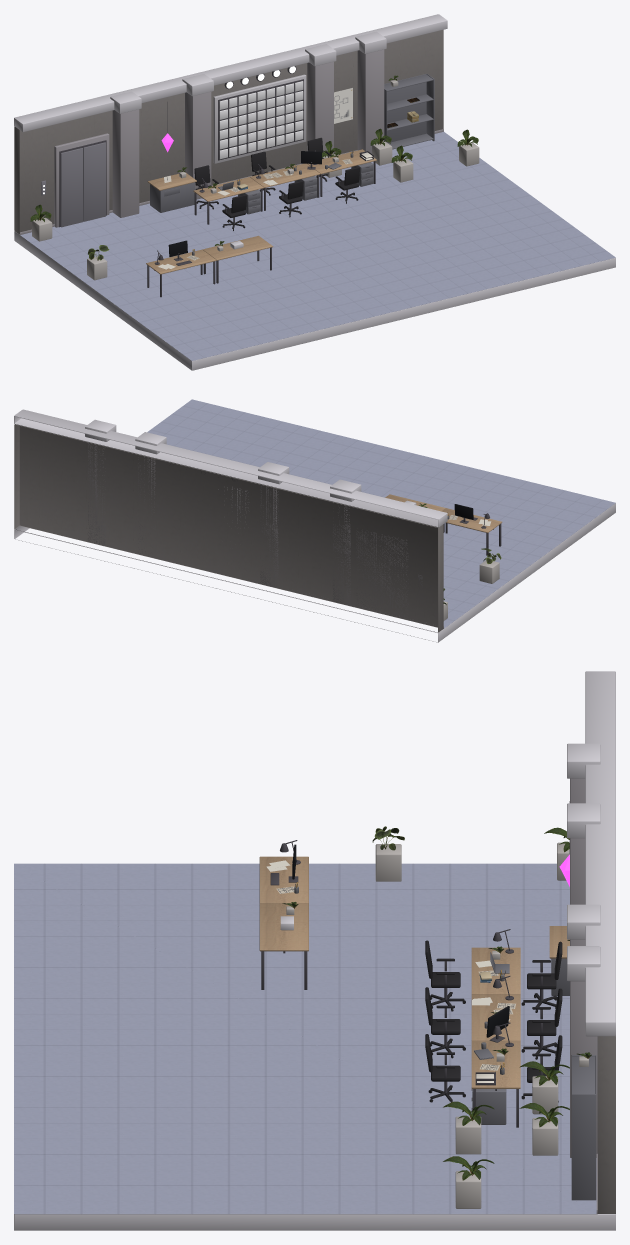
File: workbench.glb
3 renders of one model, top to bottom at view 1: azimuth 30°, elevation 25°; view 2: azimuth 150°, elevation 25°; view 3: azimuth 270°, elevation 25°, orthographic. The views are drawn at different scales.
Visible parts, largest first — view 1: floor, wall_back, floor_slab, wall_cap, pilaster_0, pilaster_3, pilaster_1, pilaster_2, plan_back, lift_door_0, lift_door_1, shelf_back (+13 smaller); view 2: wall_back, floor, wall_cap, floor_slab, lift_surround, pilaster_1, pilaster_0, corner_top, pilaster_3, planter_4, pilaster_cap_0, pilaster_cap_3 (+2 smaller); view 3: floor, floor_slab, wall_cap, wall_back, shelf_side_1, corner_b_top, corner_top, desk1_top, pilaster_3, desk3_top, desk2_top, pilaster_1 (+11 smaller).
Part boxes in pixels (x1,y1,x2,y2): floor: [20, 131, 615, 360]; wall_back: [14, 30, 443, 234]; floor_slab: [14, 231, 615, 370]; wall_cap: [14, 14, 447, 132]; pilaster_0: [112, 109, 139, 217]; pilaster_3: [357, 49, 384, 153]; pilaster_1: [185, 92, 211, 199]; pilaster_2: [307, 62, 333, 155]; plan_back: [218, 79, 303, 160]; lift_door_0: [60, 148, 83, 227]; lift_door_1: [83, 142, 105, 221]; shelf_back: [384, 73, 426, 142]; wall_back: [14, 424, 443, 632]; floor: [147, 399, 615, 628]; wall_cap: [14, 409, 447, 527]; floor_slab: [14, 503, 615, 642]; lift_surround: [356, 531, 408, 617]; pilaster_1: [260, 486, 278, 587]; pilaster_0: [333, 505, 350, 605]; corner_top: [442, 508, 502, 532]; pilaster_3: [88, 442, 105, 545]; planter_4: [479, 560, 499, 583]; pilaster_cap_0: [330, 479, 361, 501]; pilaster_cap_3: [85, 419, 116, 441]; floor: [14, 863, 596, 1214]; floor_slab: [14, 1214, 615, 1230]; wall_cap: [585, 671, 615, 1036]; wall_back: [597, 1035, 615, 1213]; shelf_side_1: [571, 1094, 596, 1200]; corner_b_top: [259, 903, 308, 951]; corner_top: [259, 856, 308, 903]; desk1_top: [471, 947, 520, 994]; pilaster_3: [570, 981, 597, 1157]; desk3_top: [471, 1041, 520, 1088]; desk2_top: [471, 994, 520, 1040]; pilaster_1: [570, 838, 585, 904].
Size of the model in its own units: 13.54 by 3.82 by 9.8.
Materials: 40 (19 with a texture image).
